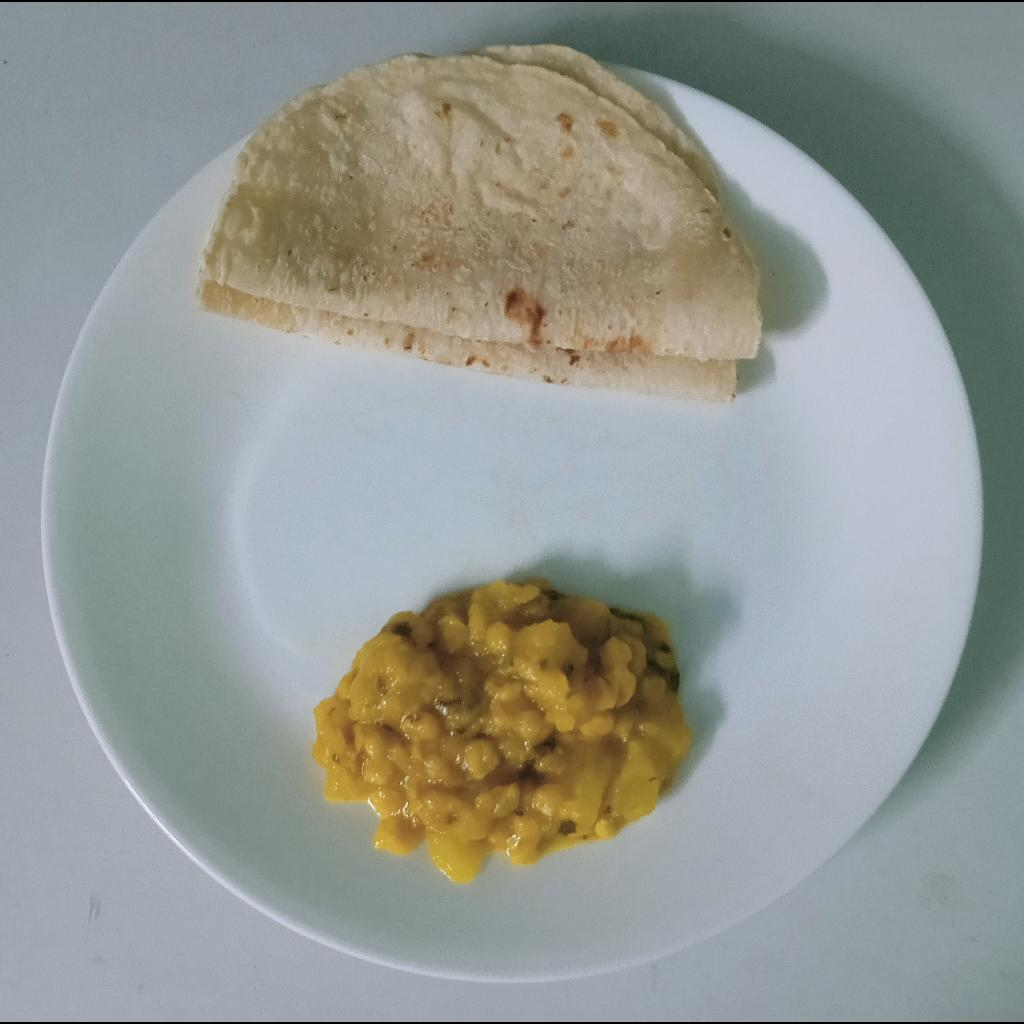daal: (313, 584, 690, 880)
ruti: (197, 45, 761, 405)
